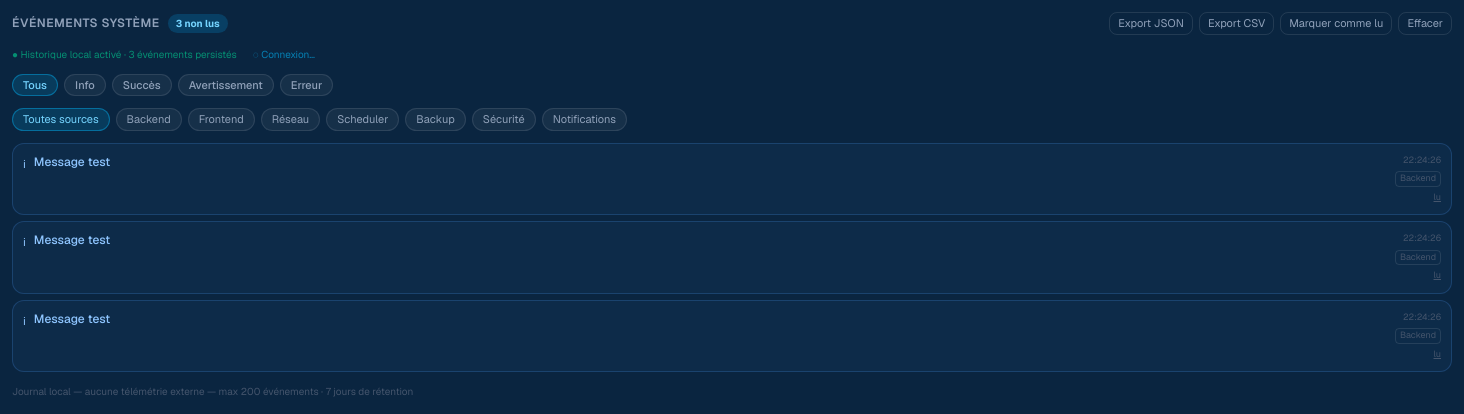
Test: SystemEventsPanel — marquer comme lu › marquer tous les événements comme lus
Expected: the text "3 non lus" is shown, 168,14 -> 228,33
Step 1. Click the button "Marquer comme lu" → (1336, 23), box 1280,12 -> 1392,34
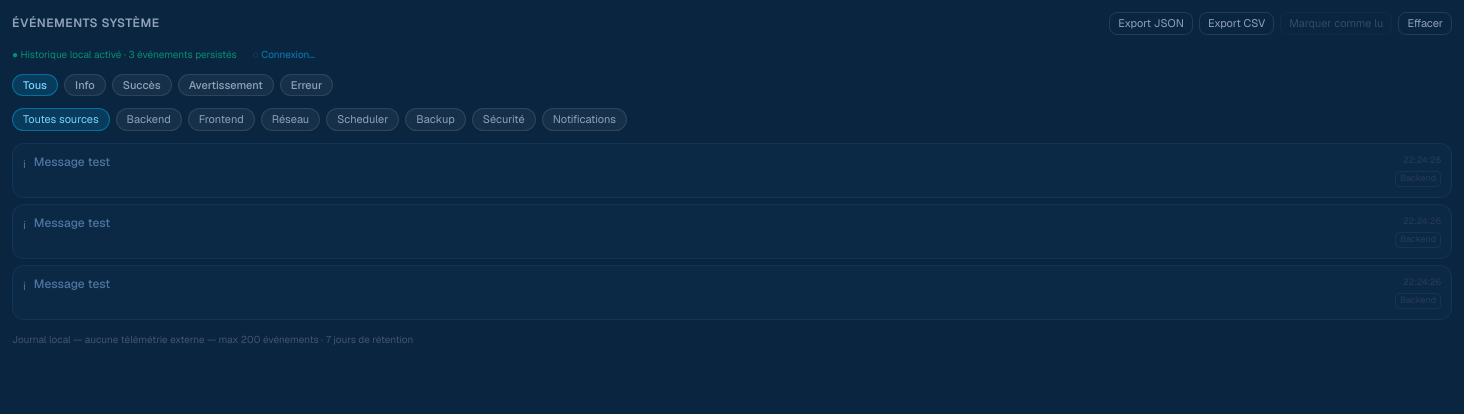
Result: the text "non lu" is gone
